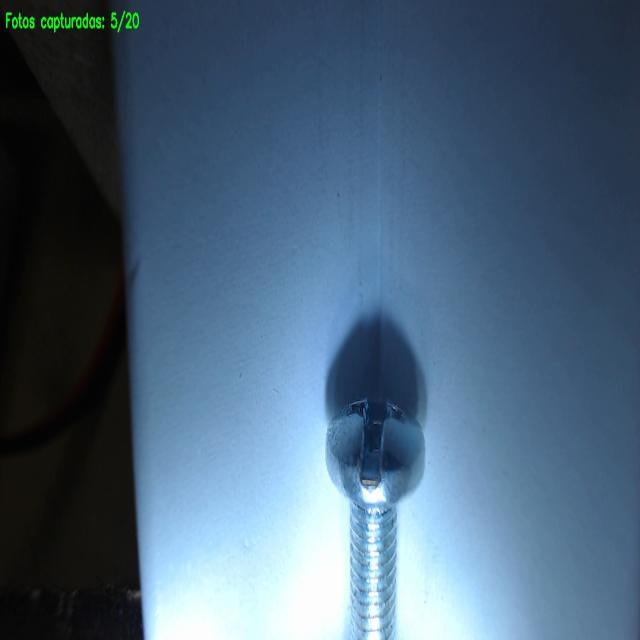vastago: (350, 505, 396, 639)
